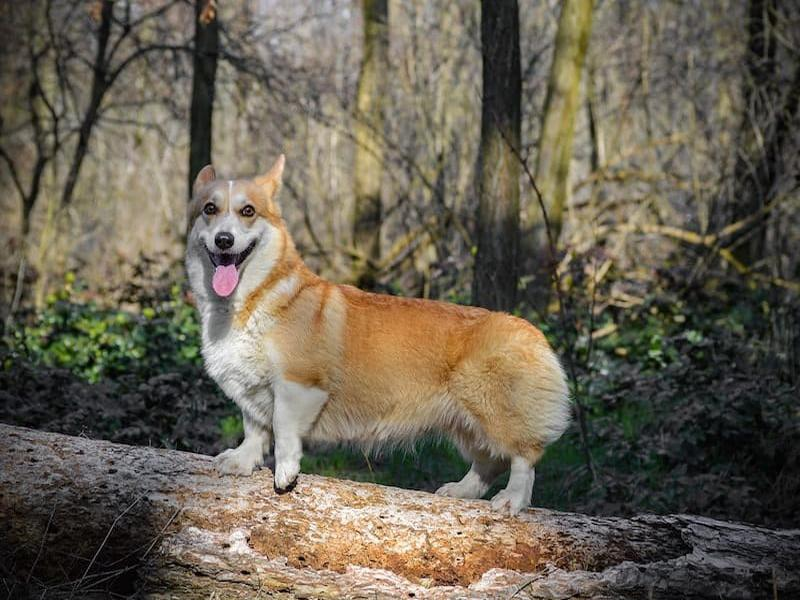corgi: (187, 152, 294, 295)
